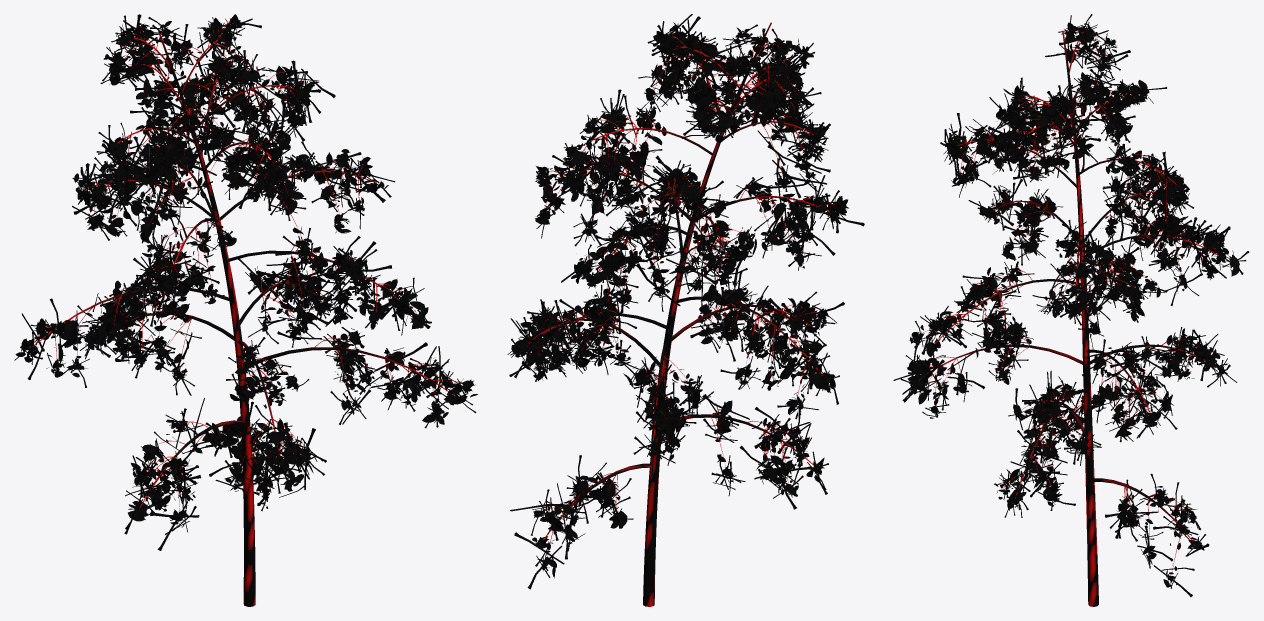
Rendered from SM_BroadleafYoung_03.fbx.
3 views of the same model, side by side, from view 1: azimuth 30°, elevation 25°; view 2: azimuth 150°, elevation 25°; view 3: azimuth 270°, elevation 25° (orthographic). The views are drawn at different scales.
Visible parts, largest first — view 1: SM_BroadleafYoung_03; view 2: SM_BroadleafYoung_03; view 3: SM_BroadleafYoung_03.
Boxes of the visible parts, x1,y1,x2,y2 form: SM_BroadleafYoung_03: [14, 14, 477, 606]; SM_BroadleafYoung_03: [507, 14, 864, 606]; SM_BroadleafYoung_03: [893, 14, 1249, 606].
Size of what is drawn, in the model's own units: 689 by 635 by 1058.
